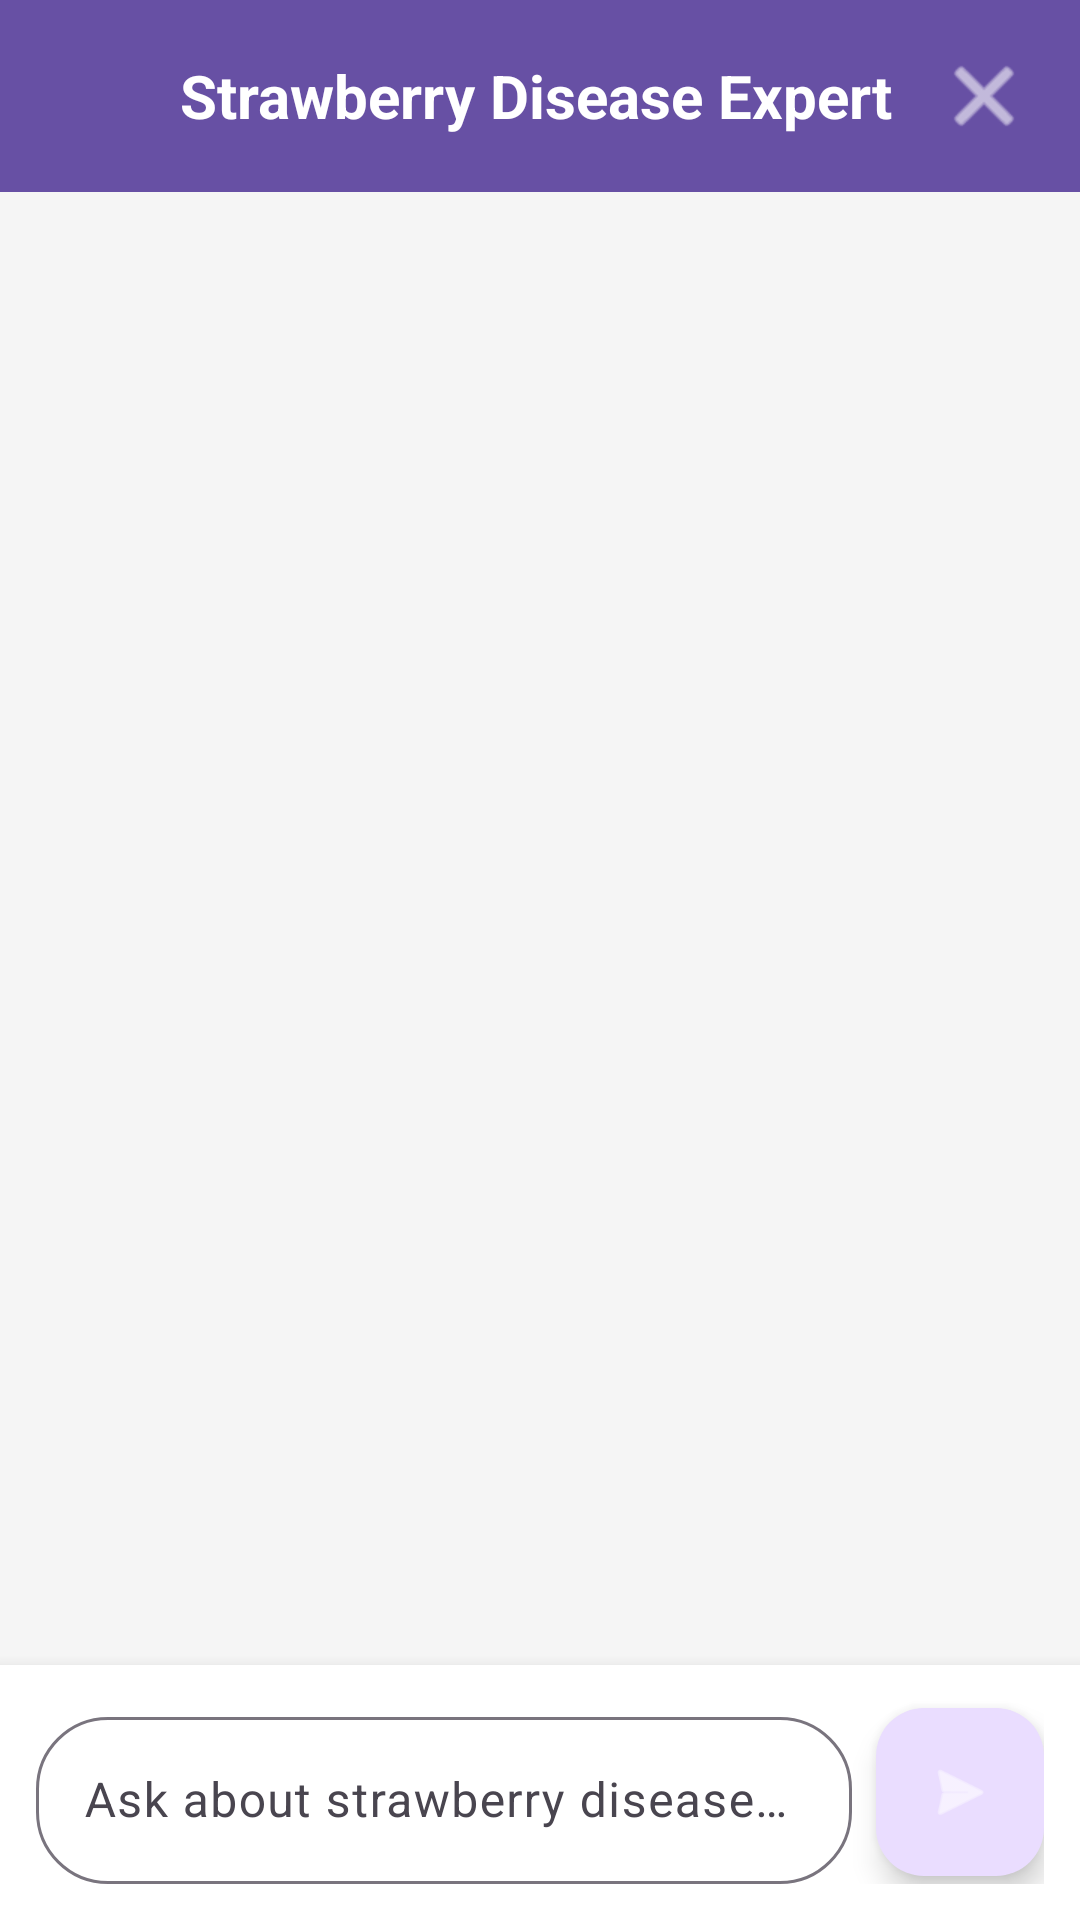

Named icons in this screenshot (1080x1920) and their bounding boxes, [x1=x1, y1=y1, x2=x2, y2=y2]:
Close chat: [x1=954, y1=66, x2=1014, y2=126]
Send message: [x1=876, y1=1708, x2=1044, y2=1876]
